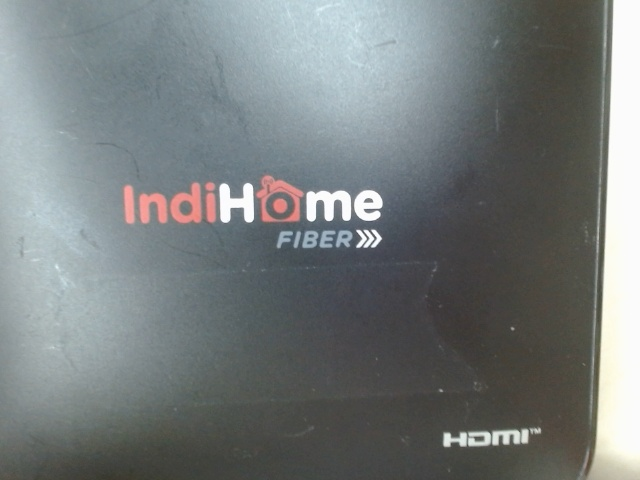AF_IndiHome: (112, 167, 388, 259)
